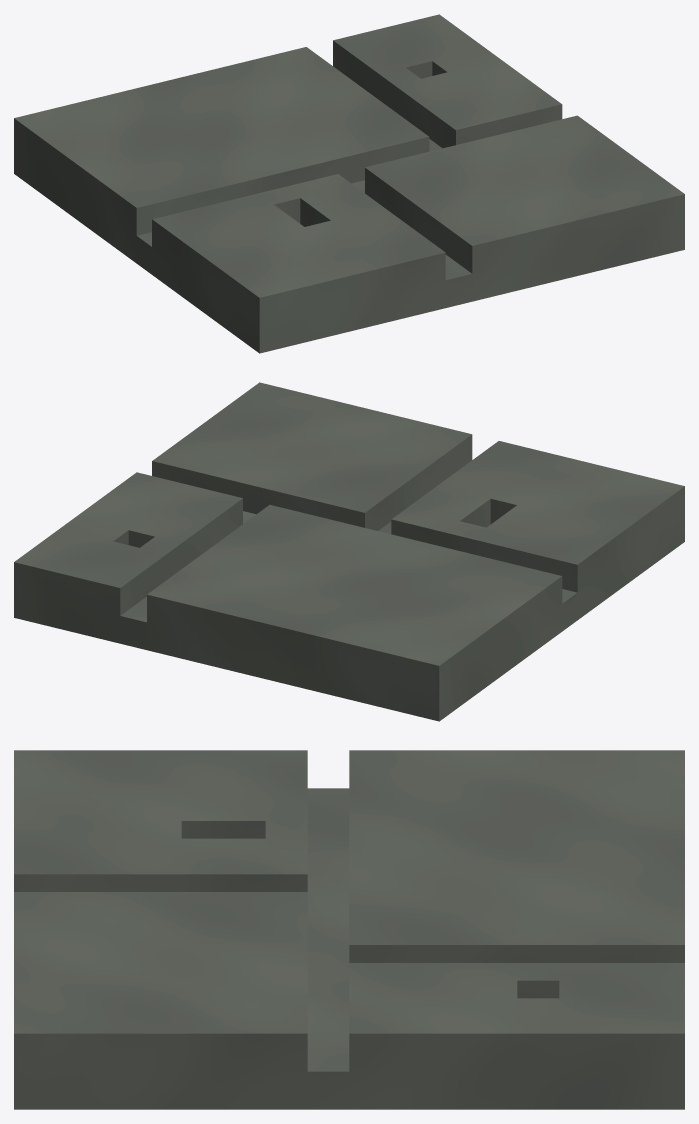
The model's file is FLOOR_B.glb.
3 views of the same model, one above another, from view 1: azimuth 30°, elevation 25°; view 2: azimuth 150°, elevation 25°; view 3: azimuth 270°, elevation 25° (orthographic). The views are drawn at different scales.
Parts seen in each view (by area): view 1: FLOOR_B; view 2: FLOOR_B; view 3: FLOOR_B.
Part boxes in pixels (box(x1,y1,x2,y2)): FLOOR_B: box(14, 14, 684, 353); FLOOR_B: box(14, 382, 684, 721); FLOOR_B: box(14, 750, 684, 1109).
Size of the model in its own units: 2 by 0.25 by 2.
Materials: 1 (1 with a texture image).
